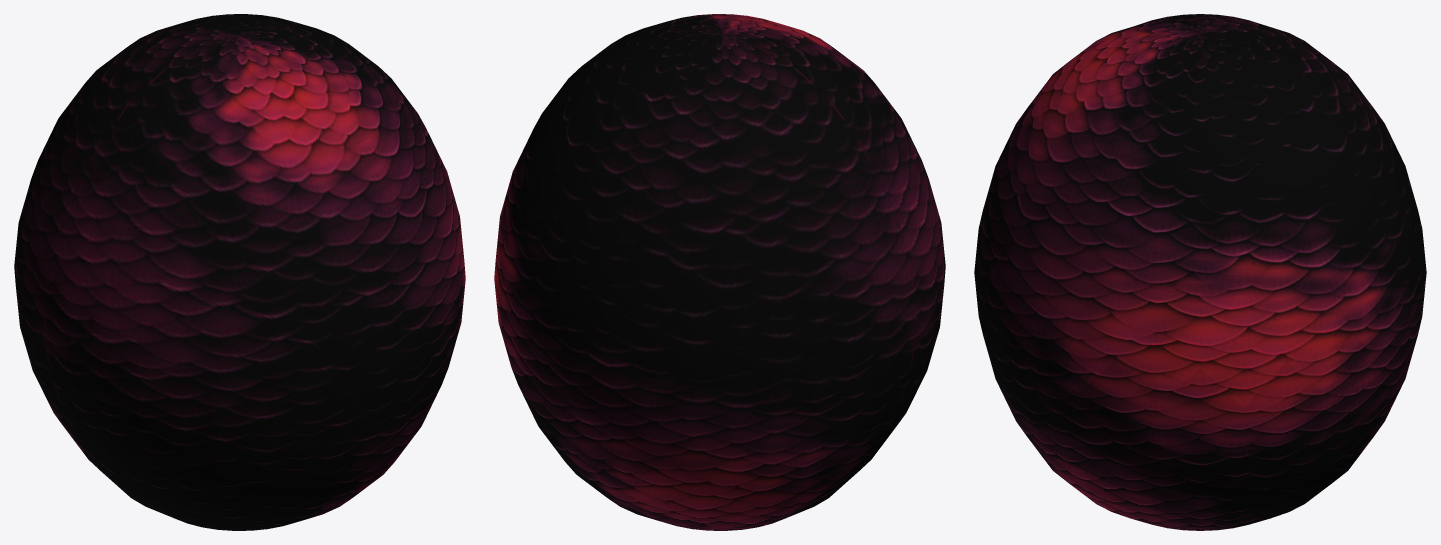
File: EggCrack.fbx
3 views of the same model, side by side, from view 1: azimuth 30°, elevation 25°; view 2: azimuth 150°, elevation 25°; view 3: azimuth 270°, elevation 25° (orthographic).
Parts seen in each view (by area): view 1: Sphere.001, Sphere; view 2: Sphere.001, Sphere; view 3: Sphere.001, Sphere.
Part boxes in pixels (x1,y1,x2,y2): Sphere.001: [14, 14, 465, 409]; Sphere: [16, 287, 461, 530]; Sphere.001: [494, 14, 945, 409]; Sphere: [498, 287, 943, 530]; Sphere.001: [974, 14, 1426, 407]; Sphere: [974, 276, 1426, 530].
Size of the model in its own units: 200 by 232 by 200.
